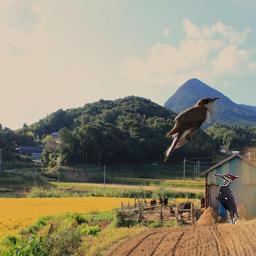Cuckoo: (164, 96, 221, 164)
Woodpecker: (213, 174, 240, 225)
